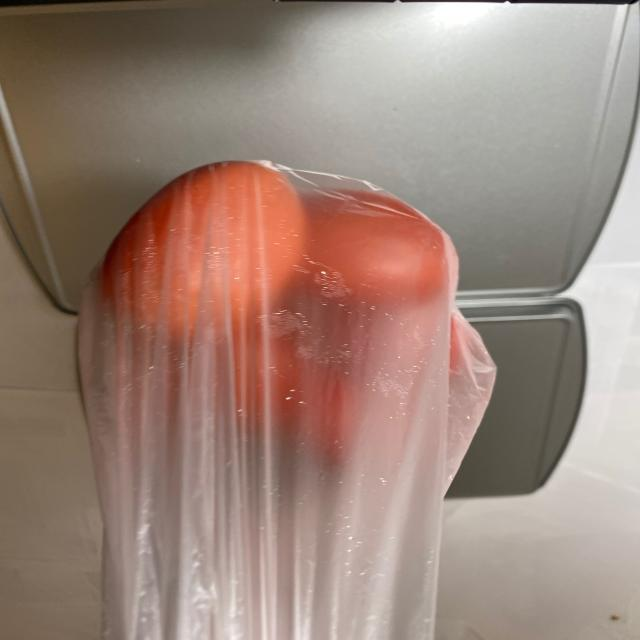tomato: (99, 162, 495, 504)
